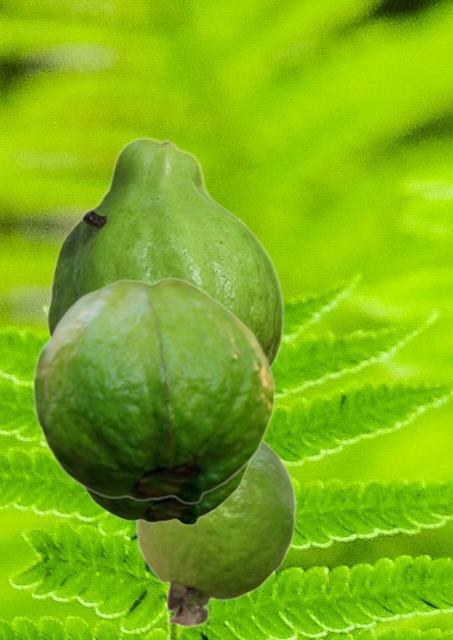guava: (45, 136, 283, 368), (32, 276, 274, 504), (135, 440, 296, 627), (84, 463, 250, 525)
